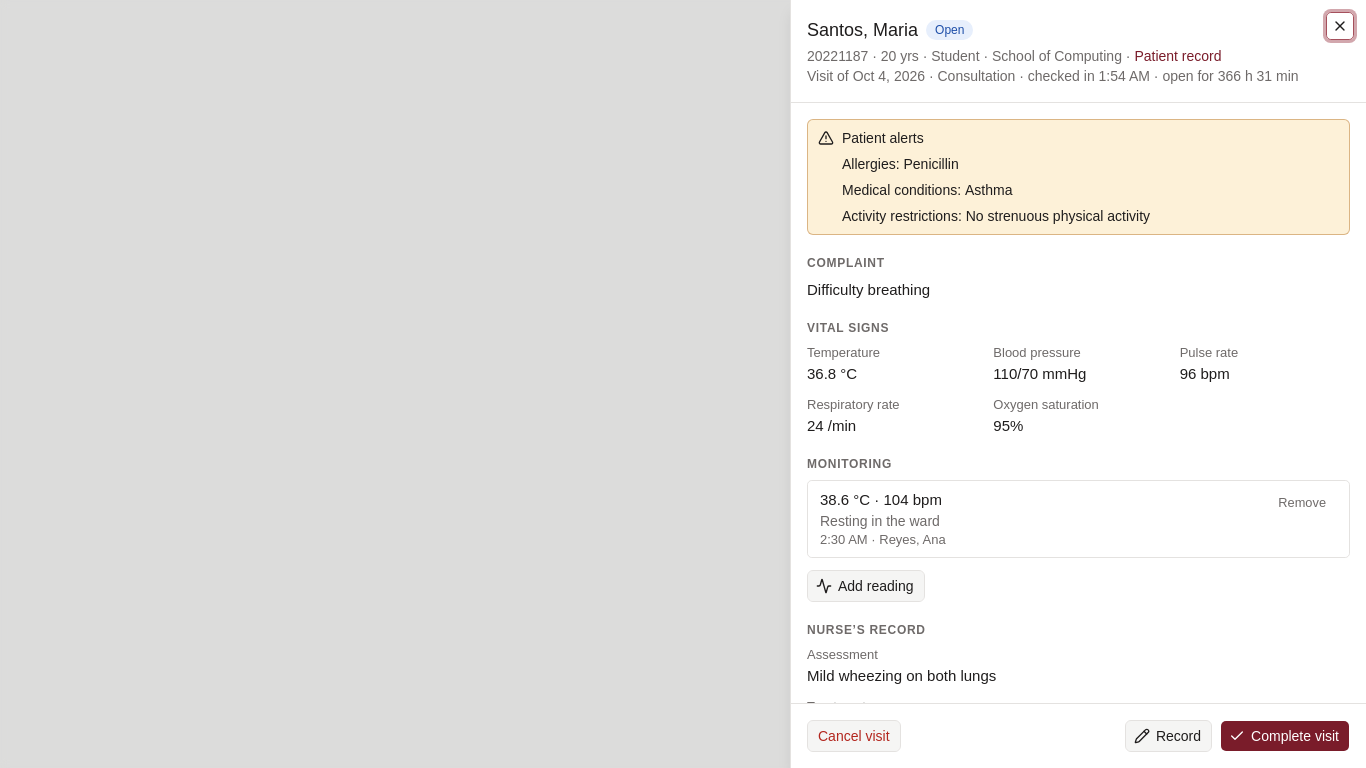
a reading recorded by mistake can be removed after confirming
Expected: the text "38.6 °C · 104 bpm" is shown, left=820, top=489, right=946, bottom=511
Expected: the text "Resting in the ward" is shown, left=820, top=511, right=946, bottom=531
Click the button with aria-label "Remove the reading taken at" at (1302, 503), box left=1267, top=489, right=1337, bottom=517
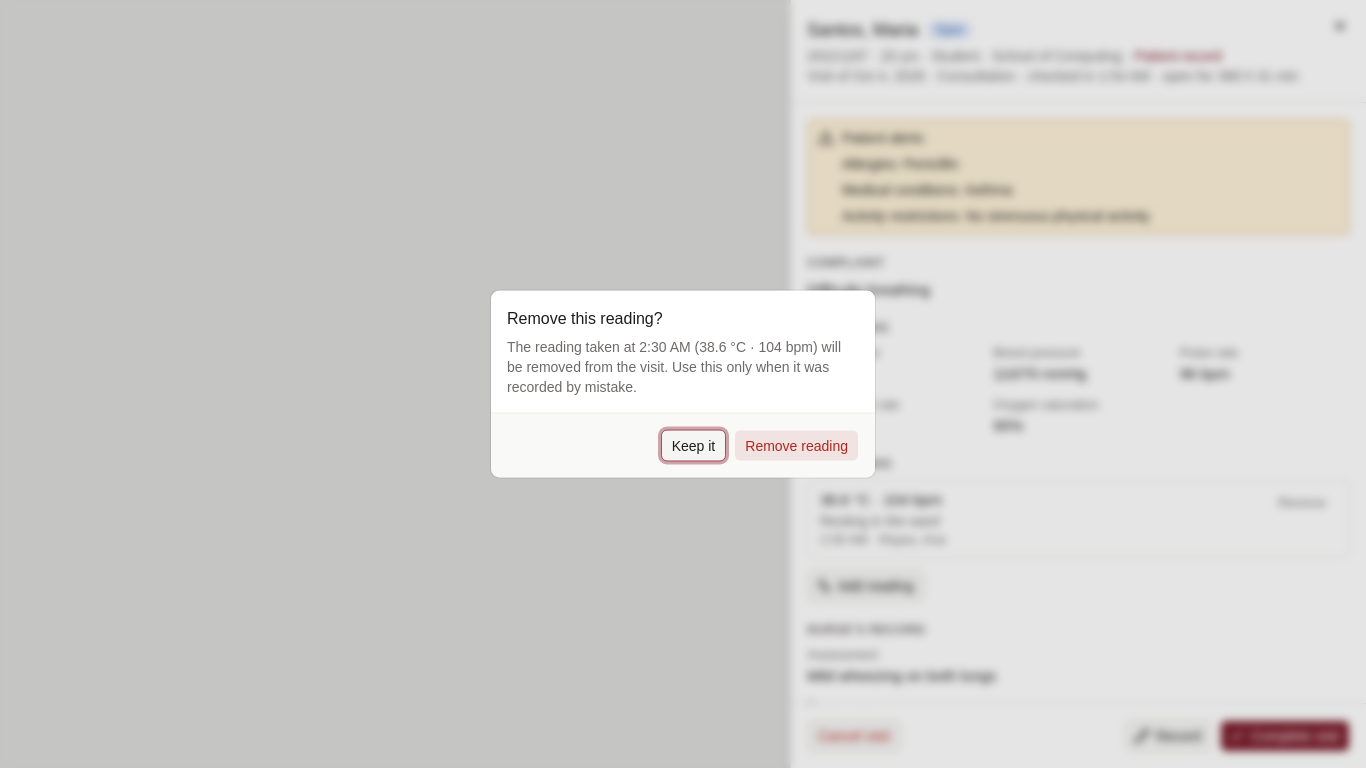
Click the button "Remove reading" at (797, 446), box left=734, top=430, right=859, bottom=462
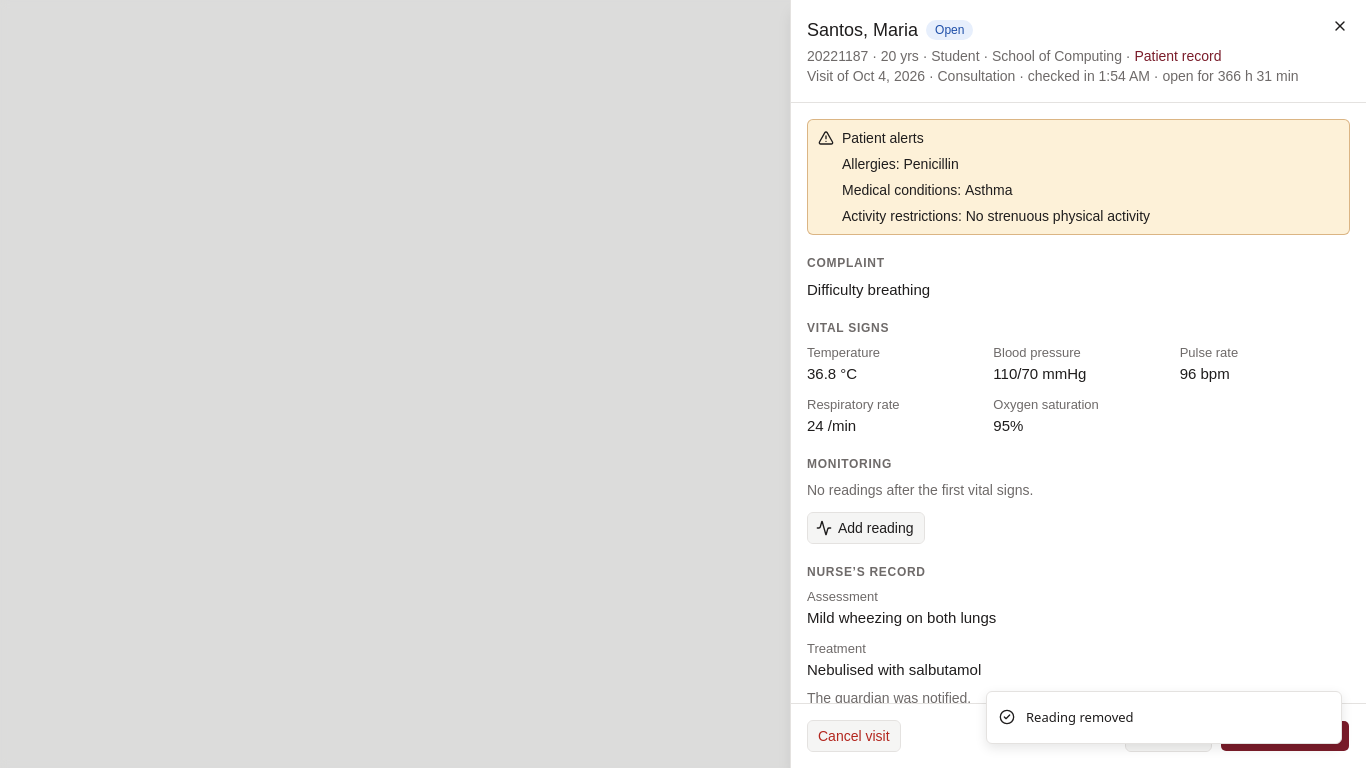
Expected: the text "Reading removed" is shown, left=1026, top=708, right=1134, bottom=727
Expected: the text "No readings after the first vital signs." is shown, left=807, top=482, right=1033, bottom=498
